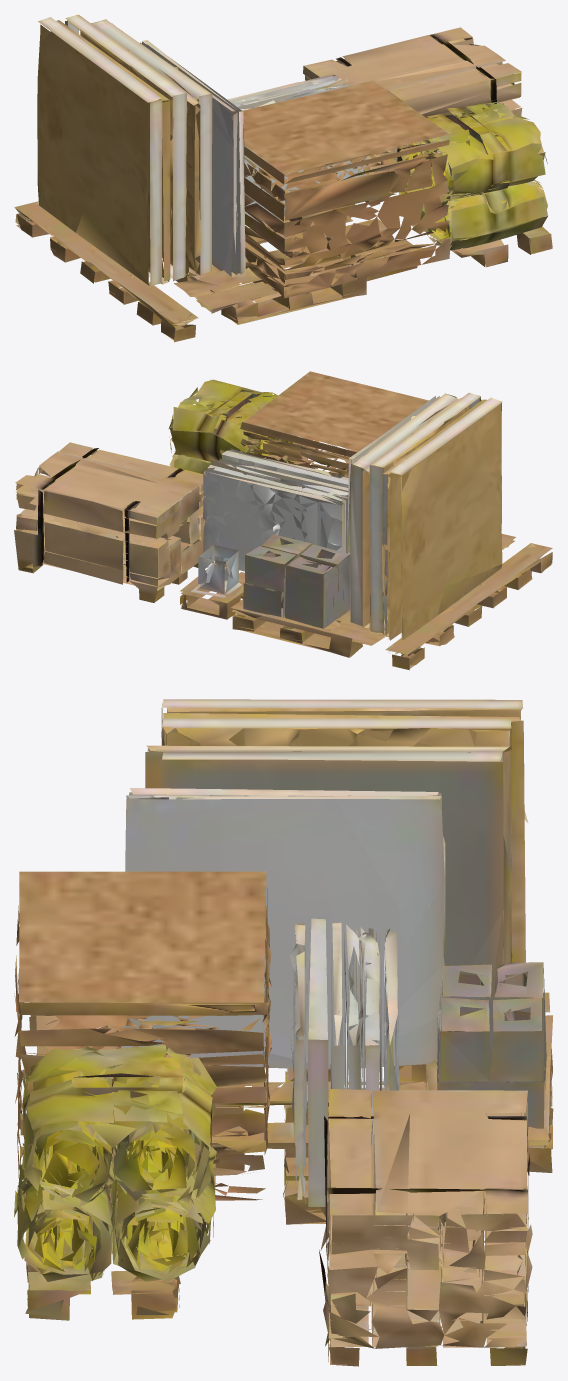
File: lumber-lite.glb
The picture shows the model from 3 angles, top to bottom: view 1: azimuth 30°, elevation 25°; view 2: azimuth 150°, elevation 25°; view 3: azimuth 270°, elevation 25°; orthographic projection. The views are drawn at different scales.
Visible parts, largest first — view 1: geometry_0; view 2: geometry_0; view 3: geometry_0.
Boxes of the visible parts, x1,y1,x2,y2 form: geometry_0: [14, 14, 552, 342]; geometry_0: [14, 371, 552, 670]; geometry_0: [14, 699, 553, 1366].
Size of the model in its own units: 1.01 by 0.458 by 0.6557.
Materials: 1 (1 with a texture image).
